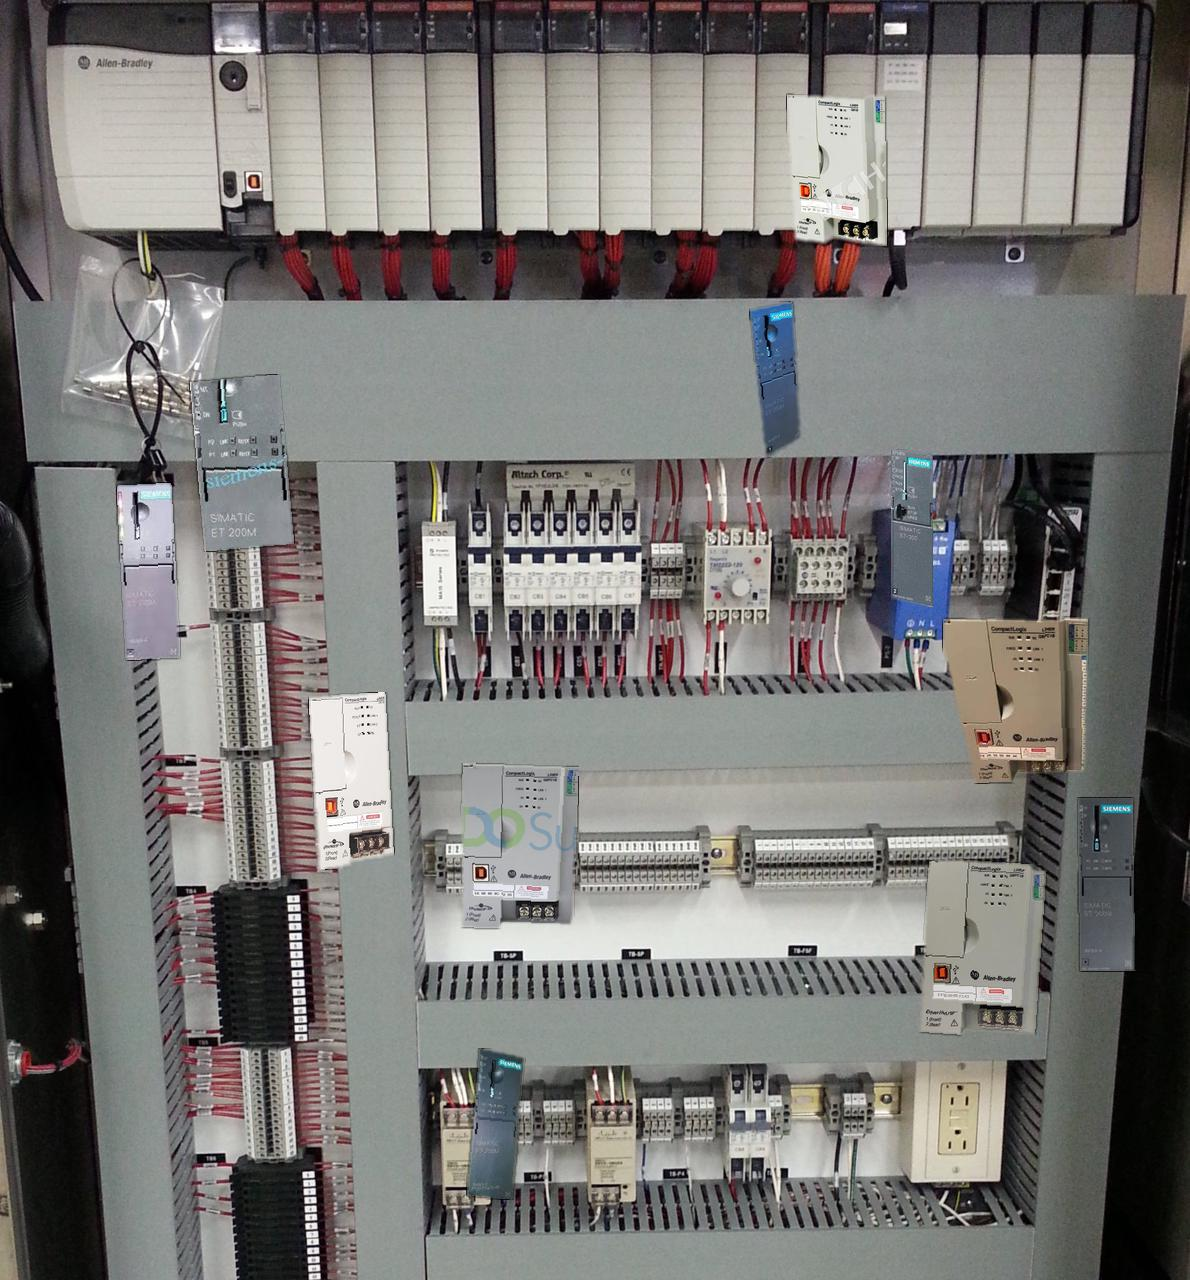AllenBradley: (943, 618, 1087, 783), (920, 859, 1045, 1034), (462, 764, 578, 927), (309, 692, 393, 869), (787, 95, 886, 245)
Siemens: (891, 449, 932, 606)
